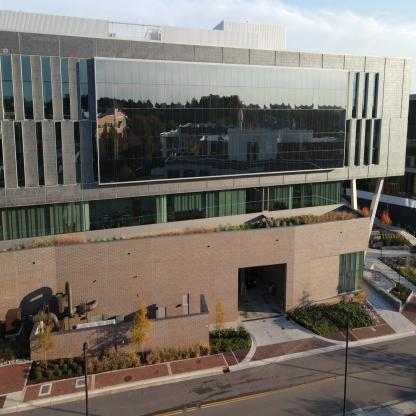Fitts- Woolard: (0, 25, 414, 356)
